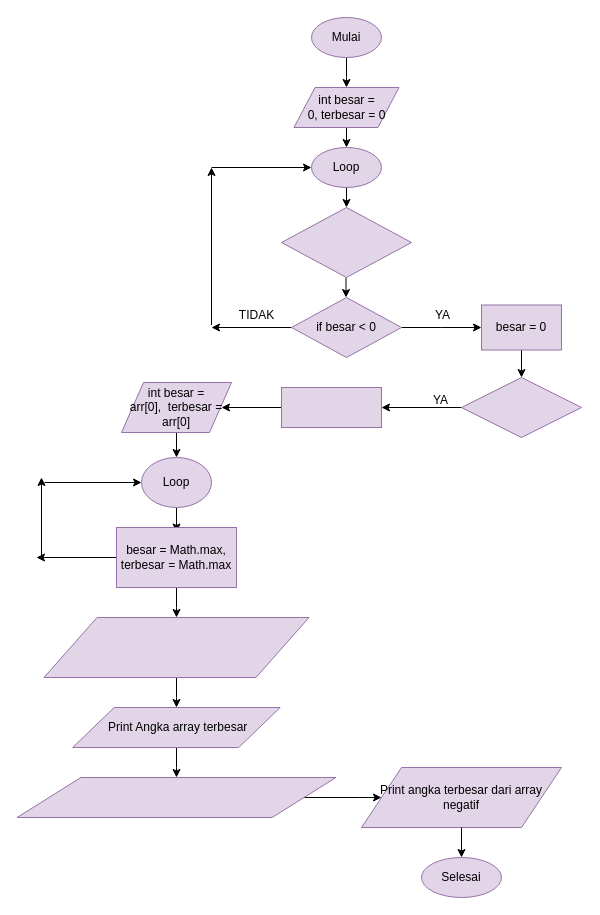
This 600x915 diagram has some shape labels left out. The shapes that lost their labels are listed below. From the top down, each one's centre as x and y in pixels, then its label:
At (x=346, y=242): "int i = 0; i < arr.length; i++".
At (x=331, y=407): "terbesar = besar".
At (x=521, y=407): "if terbesar < besar".
At (x=176, y=647): "int array[] = {3, 16, 12, -2, -5, 7, -1, 5".
At (x=176, y=797): "int negatif[] = (-8, -17, -4, -7, -10, -7, -78, -9)".
